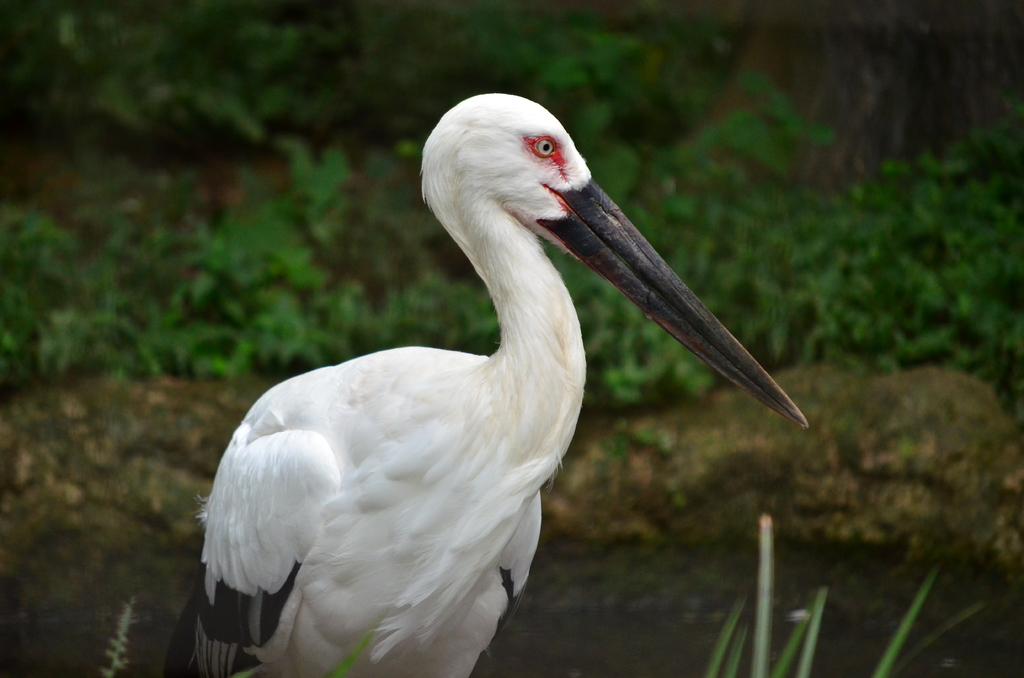Bird: (162, 93, 809, 678)
